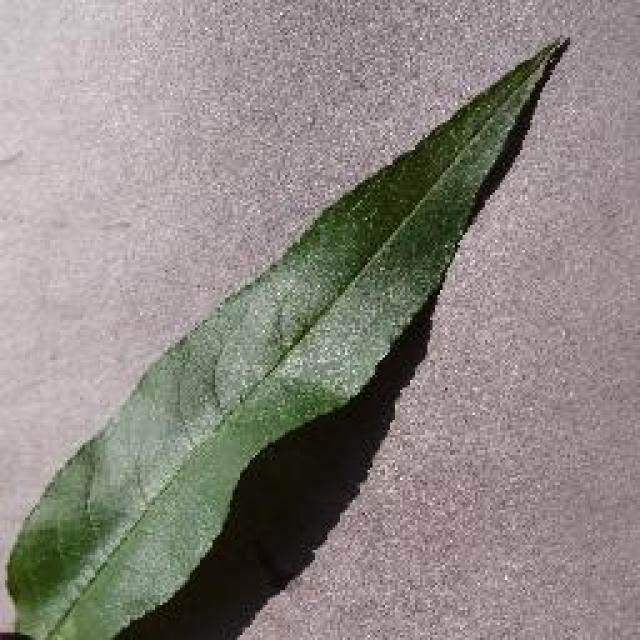Pea_healthy: (80, 142, 496, 572)
